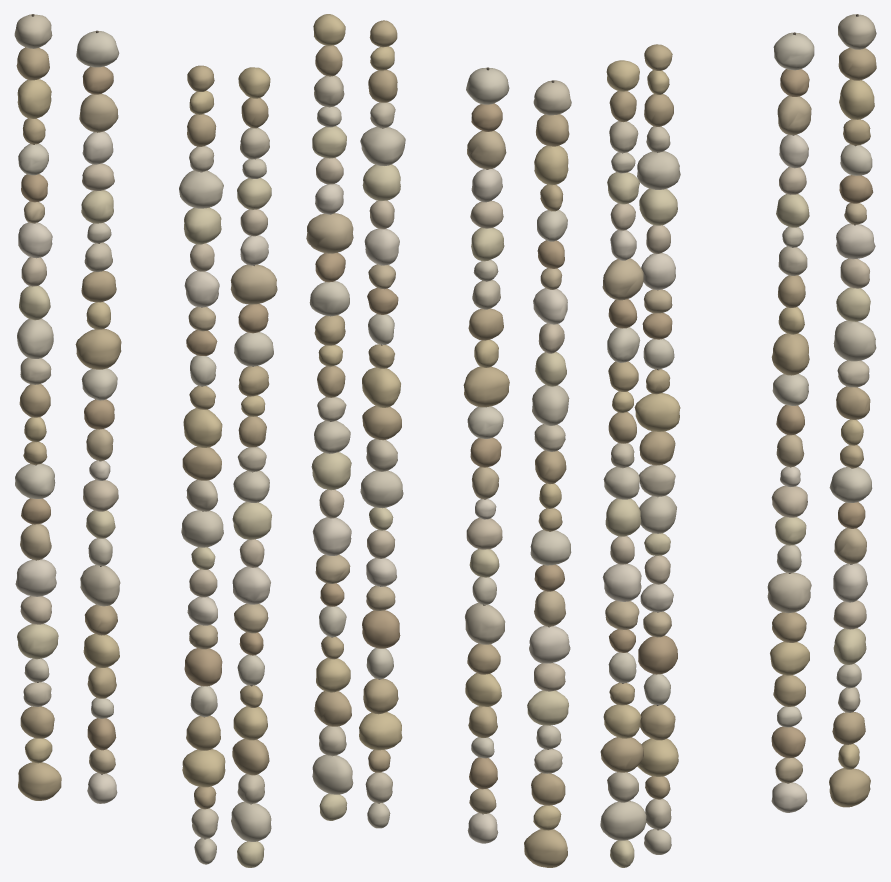
The model's file is lower.glb.
3 views of the same model, side by side, from view 1: azimuth 30°, elevation 25°; view 2: azimuth 210°, elevation 25°; view 3: azimuth 270°, elevation 25° (orthographic).
Visible parts, largest first — view 1: lower; view 2: lower; view 3: lower.
Part boxes in pixels (x1=…): lower: x1=14, y1=14, x2=277, y2=867; lower: x1=306, y1=14, x2=571, y2=867; lower: x1=600, y1=14, x2=876, y2=867.
Size of the model in its own units: 0.6102 by 3.28 by 1.02.
